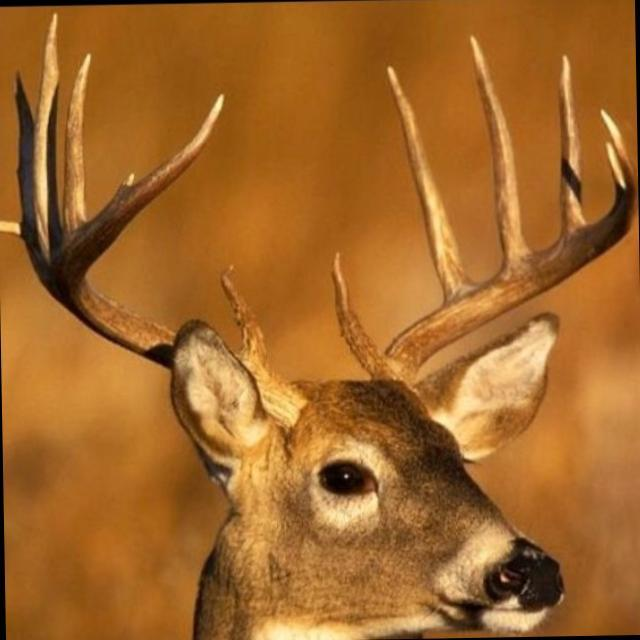L-F: (374, 105, 637, 384)
L-G1: (331, 252, 382, 376)
L-G2: (385, 64, 474, 303)
L-G3: (468, 35, 530, 269)
L-G4: (558, 54, 586, 238)
R-G1: (220, 264, 267, 366)
R-G3: (32, 13, 61, 256)
R-G4: (62, 53, 91, 235)
